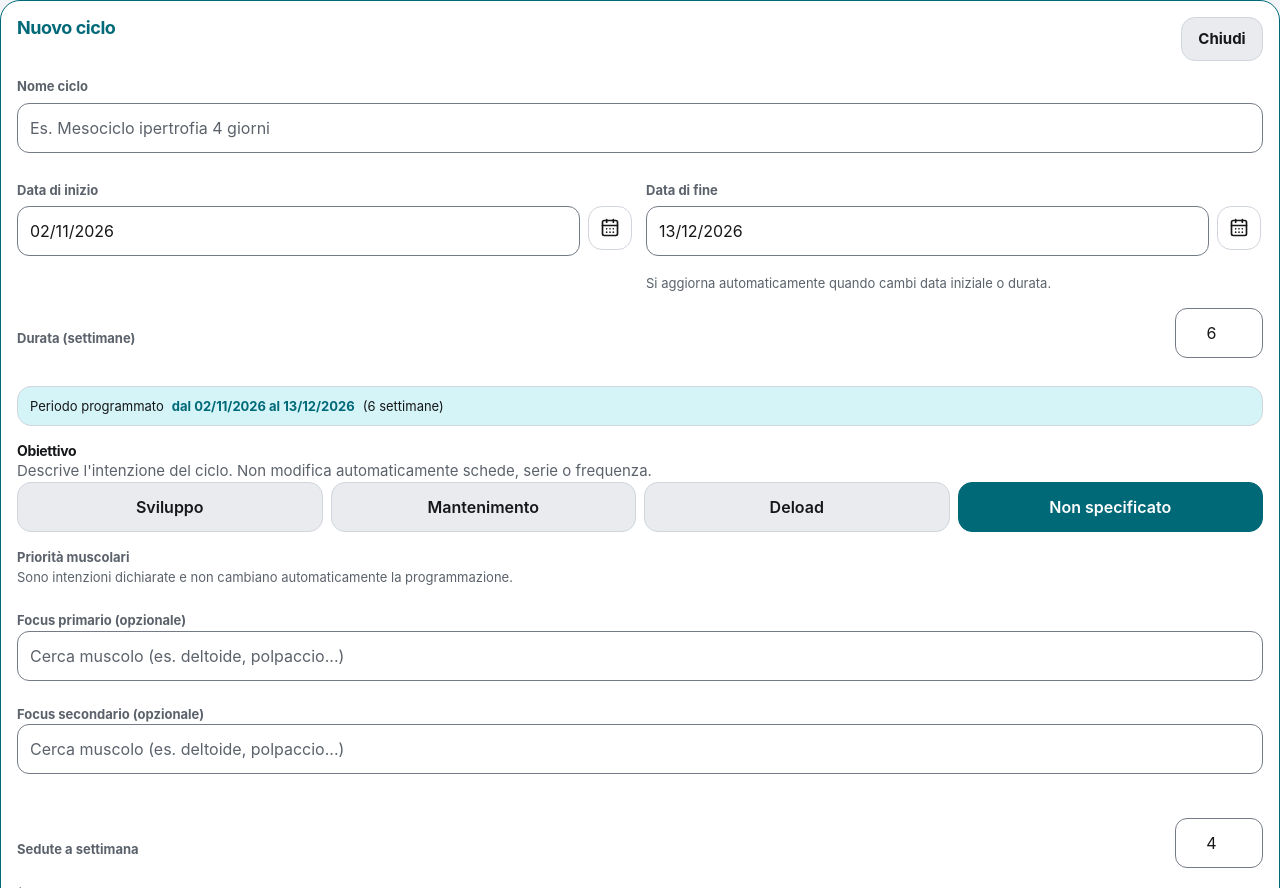
Test case: LogBook PWA Enhancements Integration Suite (Requirements R1 - R6) › Tier 1: Feature Coverage › R5: Data di Fine nei Cicli di Allenamento › T1.5.4: Changing duration weeks in CycleEditor updates the timeline range display
Replace the text in the number field labelled "Durata (settimane)" with "8" at (1219, 333), box [1175,308,1263,358]
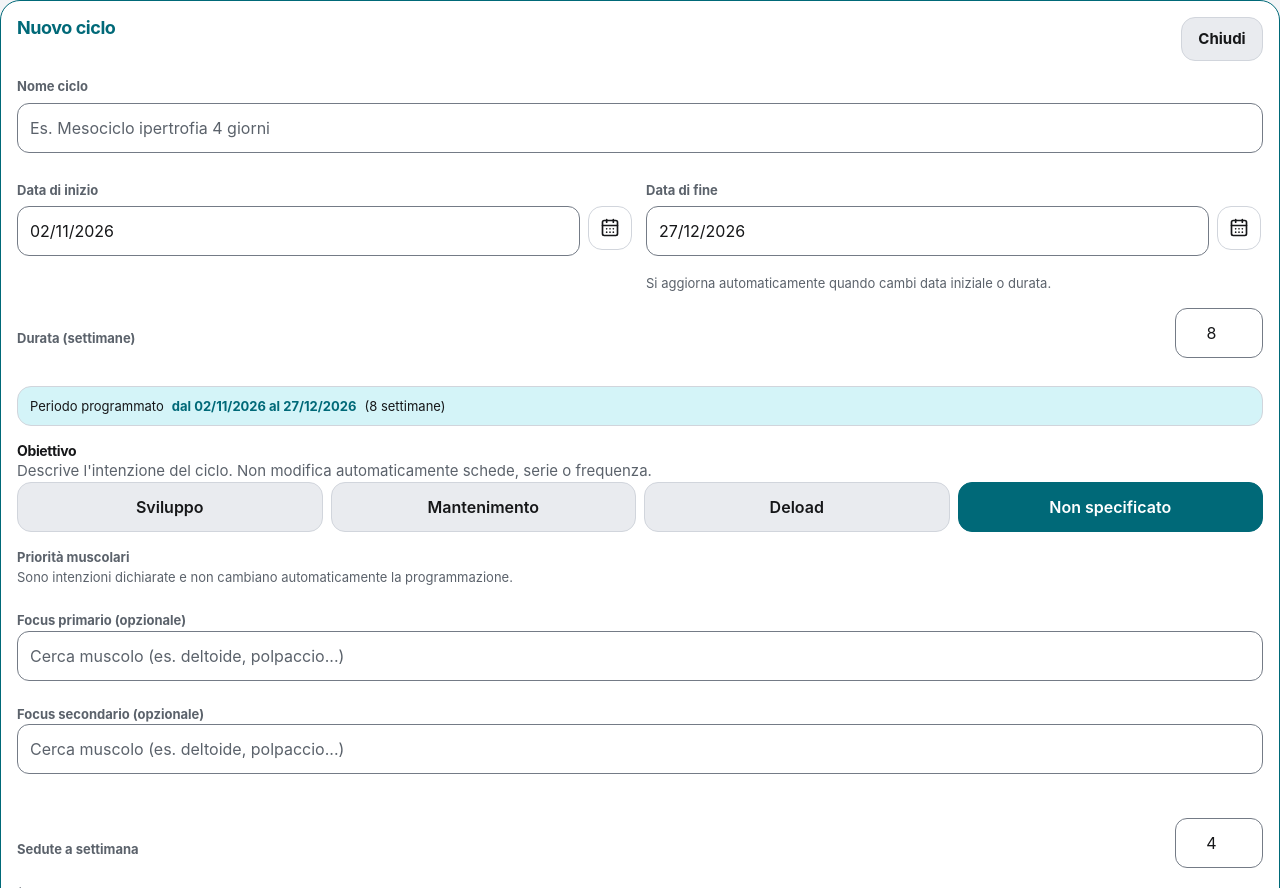
Now the text "8 settimane" is shown, box [364,397,446,415]
